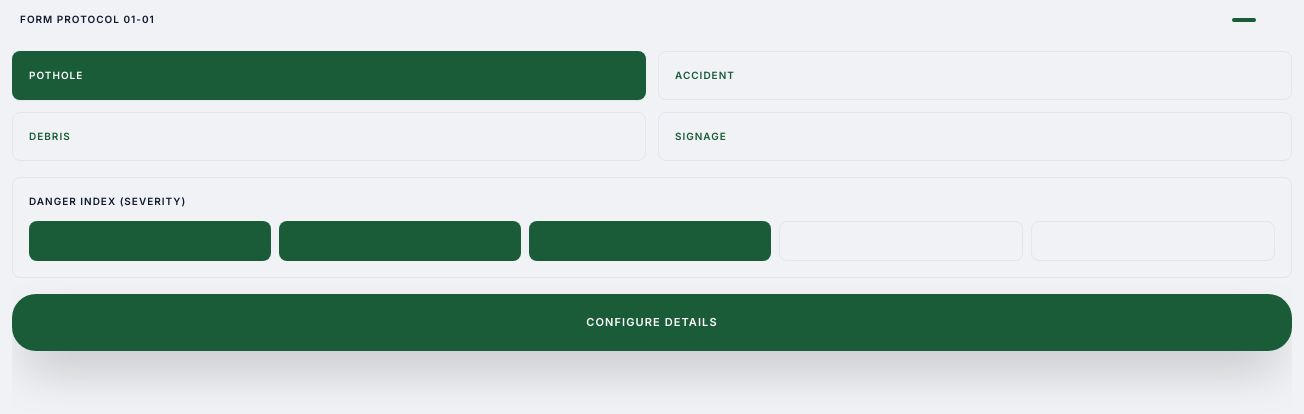
Scenario: ReportForm › shows success state after submission
What coordinates should you click on to do the following:
click the button "Configure Details"
I would click on:
 (652, 322)
Its box is 12,294 -> 1292,350.
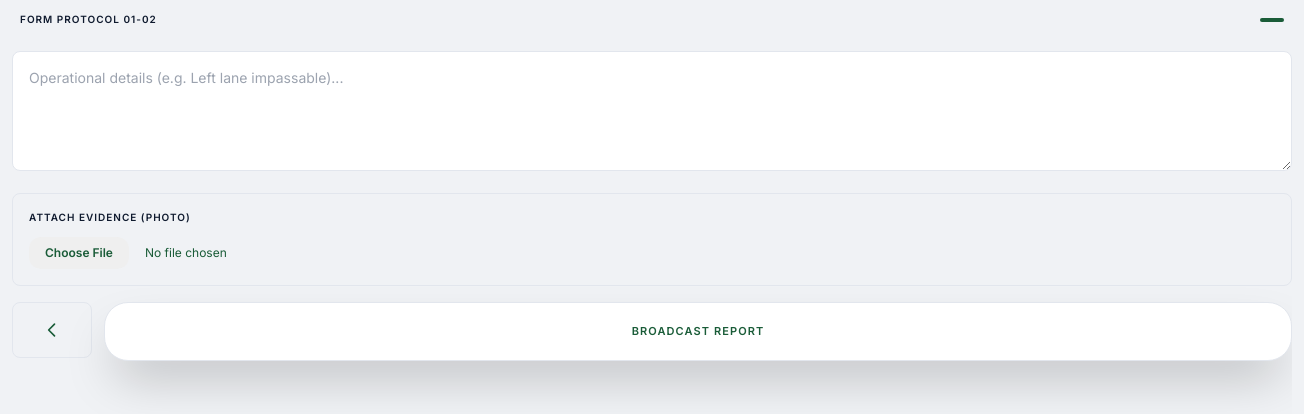
What coordinates should you click on to do the following:
click the button "Broadcast Report"
I would click on:
 (698, 331)
Its box is 104,302 -> 1292,360.
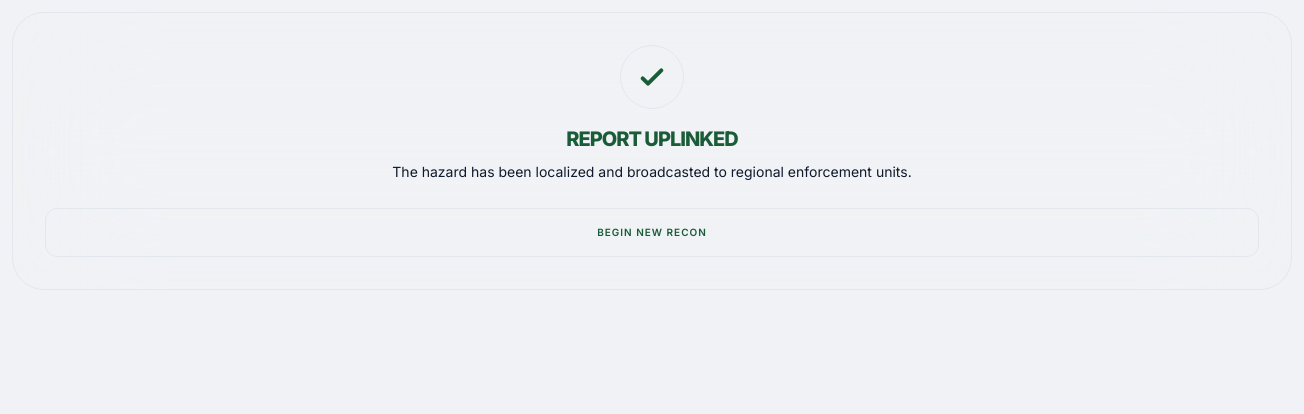
expect the message shows "Report Uplinked": met, box 566,127 -> 738,151
